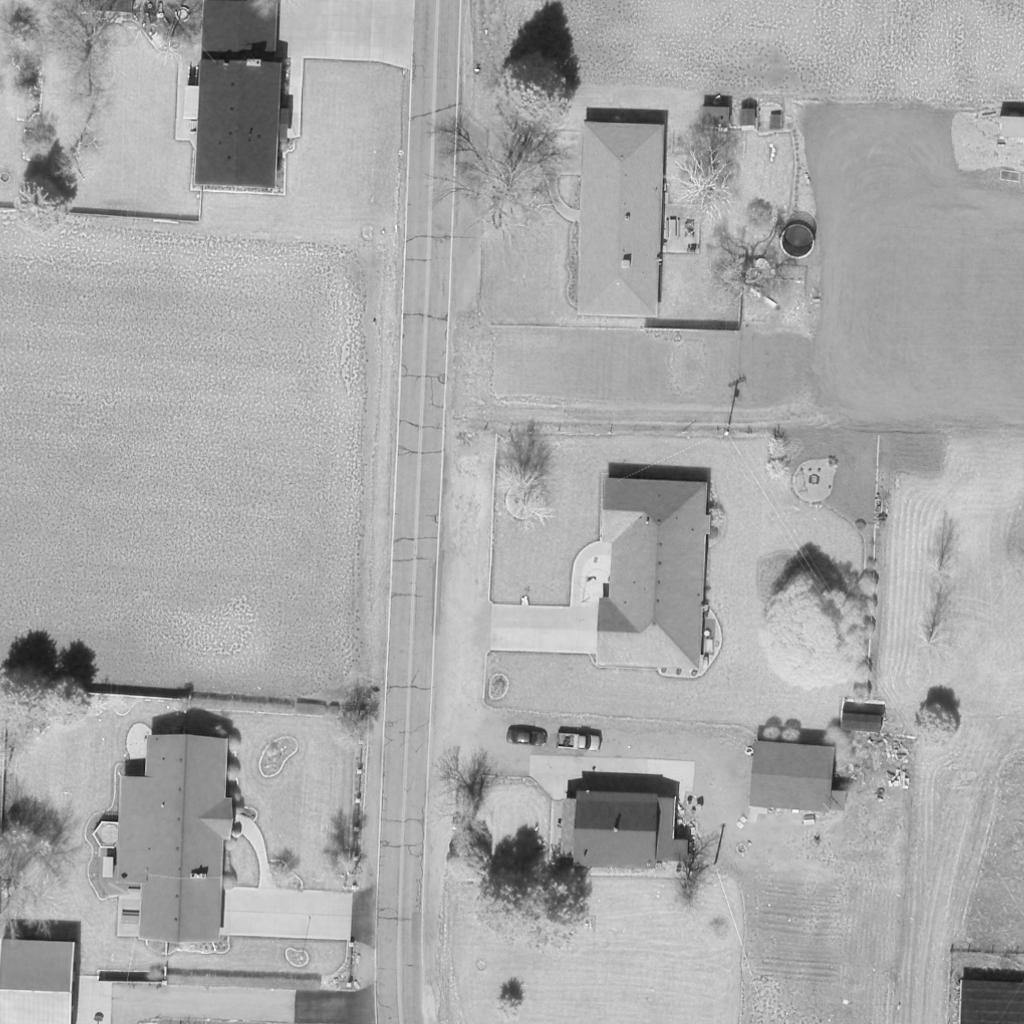vehicle: (506, 728, 546, 748), (559, 735, 603, 751)
